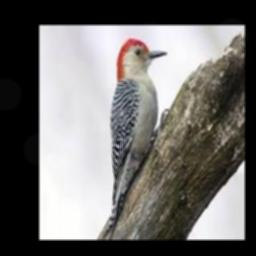Woodpecker: (100, 39, 167, 239)
